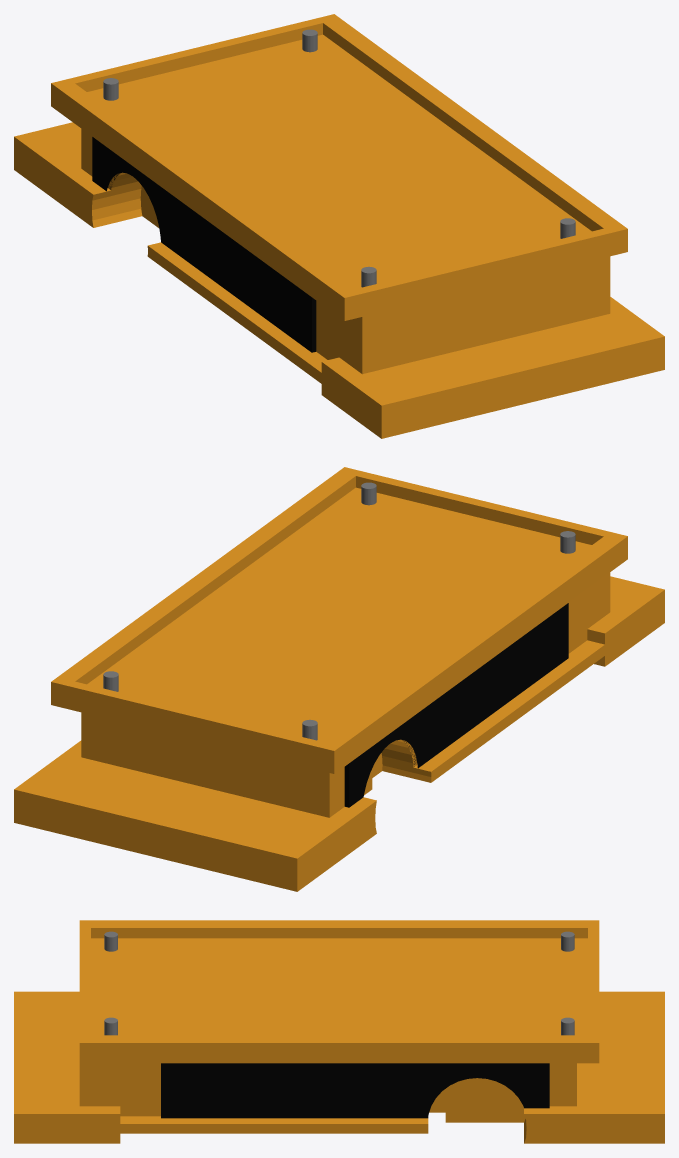
The model's file is chassis.dae.
3 renders of one model, top to bottom at view 1: azimuth 30°, elevation 25°; view 2: azimuth 150°, elevation 25°; view 3: azimuth 270°, elevation 25°, orthographic. The views are drawn at different scales.
Parts seen in each view (by area): view 1: base; view 2: base; view 3: base.
Part boxes in pixels (box(x1,y1,x2,y2)): base: box(14, 14, 664, 438); base: box(14, 467, 664, 891); base: box(14, 920, 664, 1143).
Size of the model in its own units: 1.03 by 2.3 by 0.4096.
